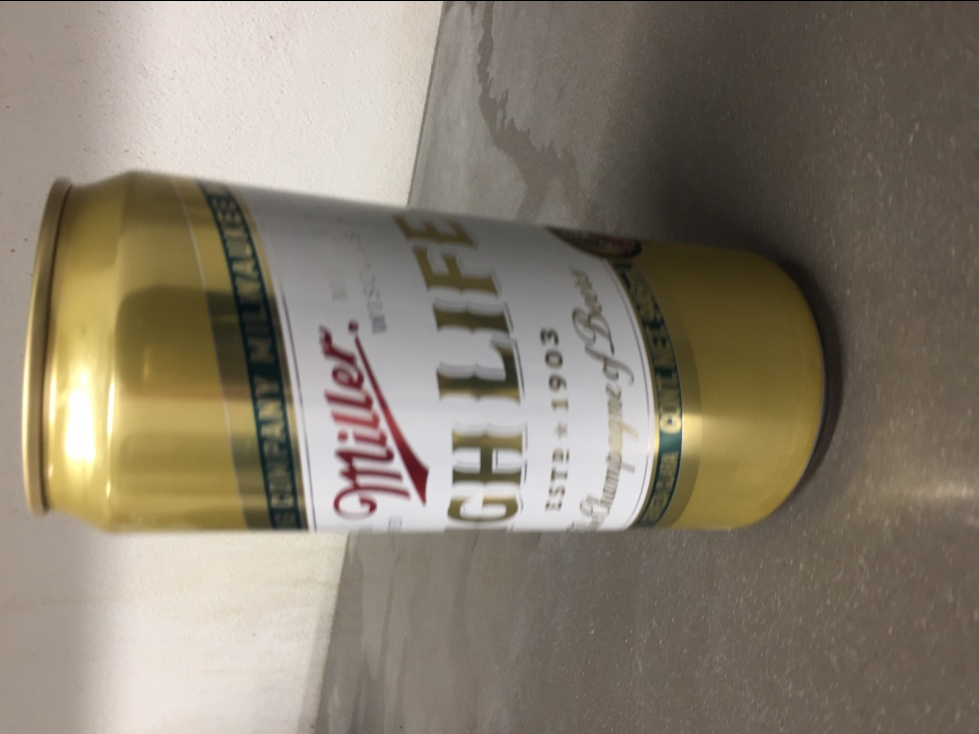miller: (19, 166, 837, 540)
